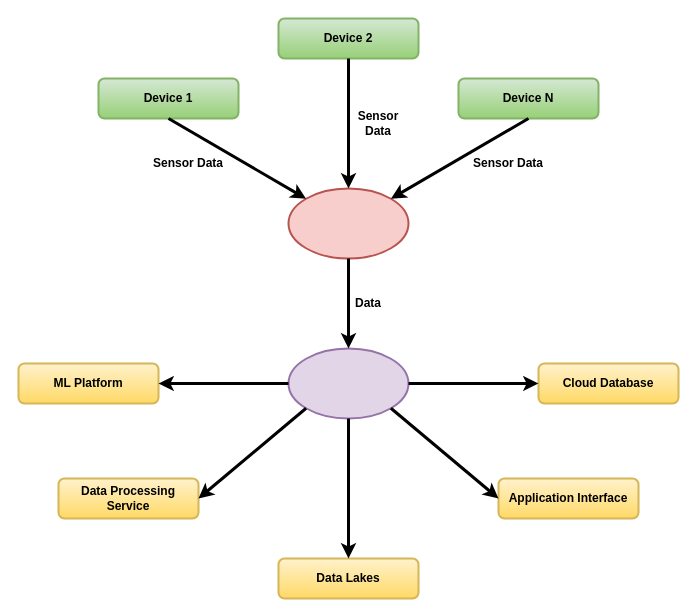
This 696x616 diagram has some shape labels left out. The shapes that lost their labels are listed below. From the top down, each one's centre as x and y in pixels, then its label:
[348,223]: WSN
[348,383]: CLOUD
